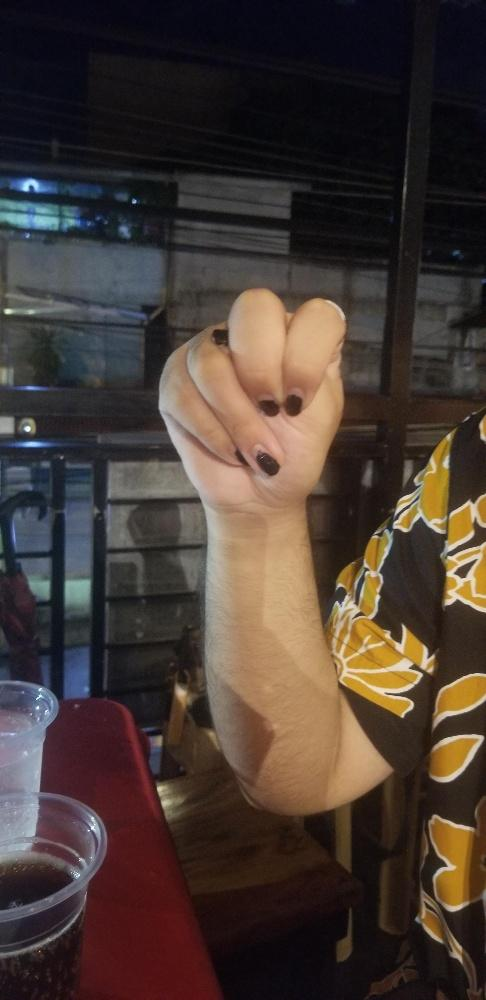n: (158, 289, 350, 504)
